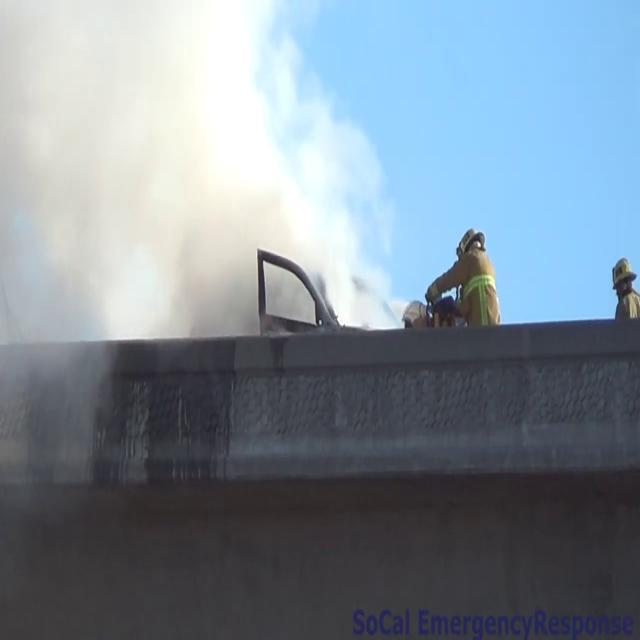Smoke: (0, 0, 392, 343)
